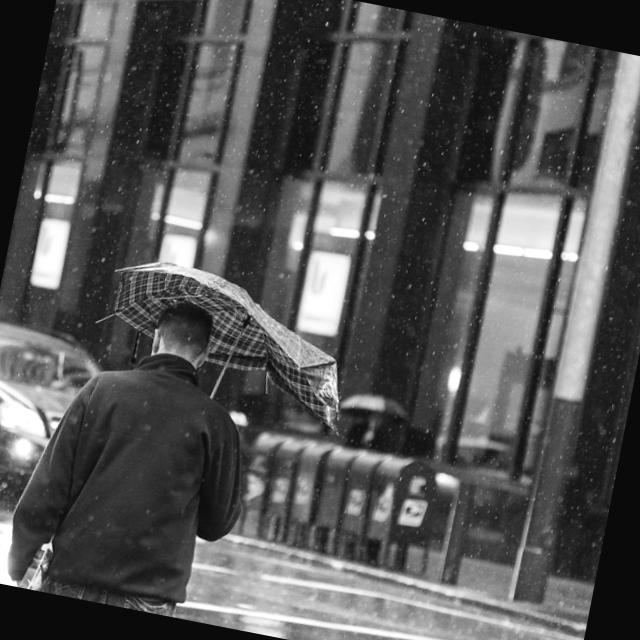Vehicle: (0, 318, 108, 515)
